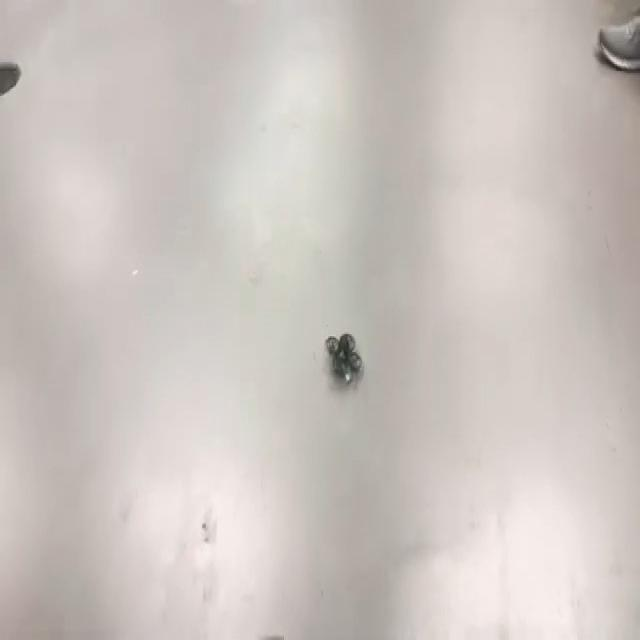drone: (316, 314, 371, 390)
